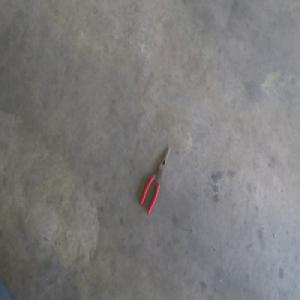Pliers: (139, 140, 171, 209)
